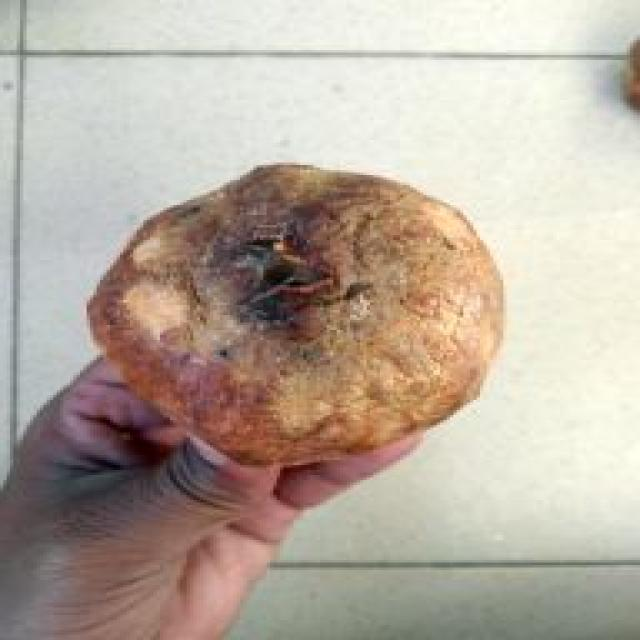Bad_Guava: (88, 164, 503, 464)
